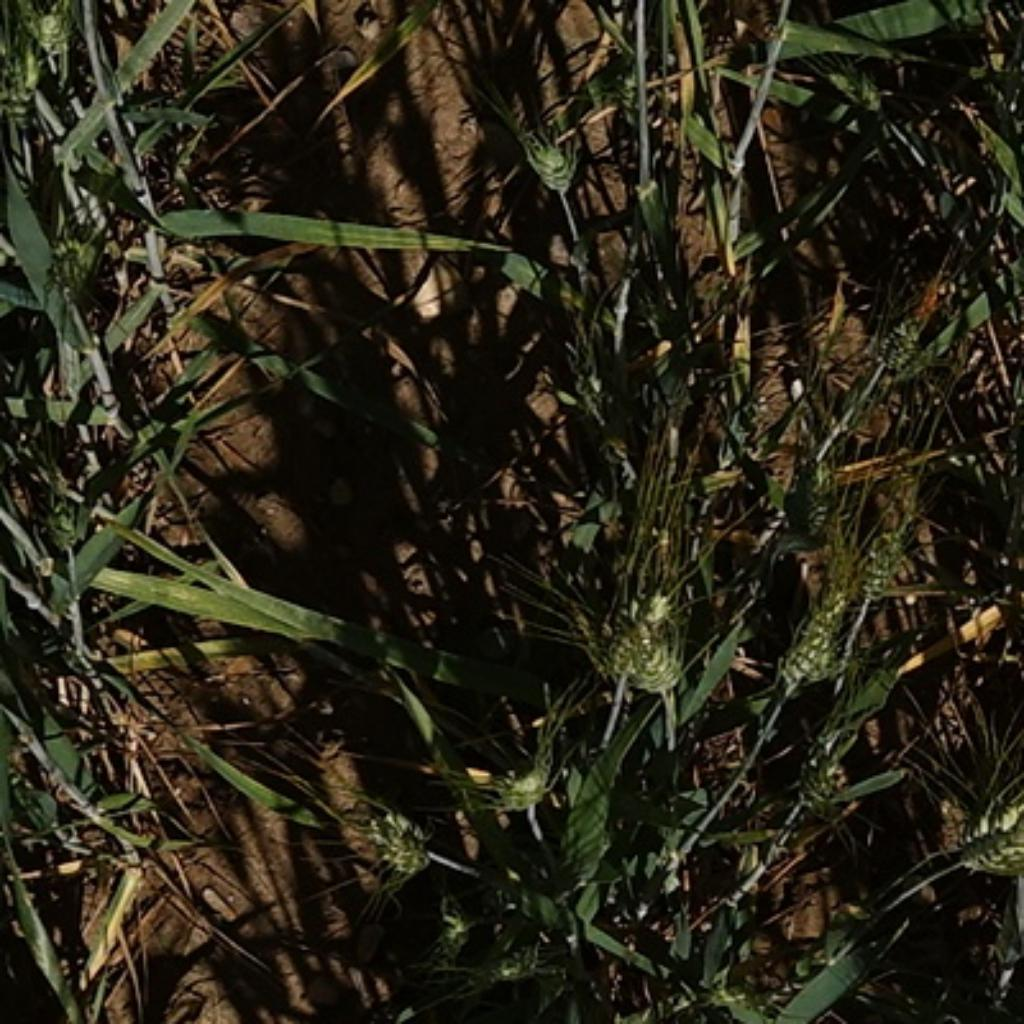0-0: (583, 573, 693, 693), (335, 775, 450, 880), (770, 568, 870, 686), (783, 448, 867, 555), (938, 790, 1024, 858), (855, 304, 939, 373), (471, 936, 563, 998), (486, 747, 558, 821), (849, 522, 911, 606), (953, 820, 1024, 892), (20, 2, 89, 71), (517, 117, 581, 189), (631, 631, 696, 698), (2, 48, 56, 128), (791, 755, 857, 820), (414, 911, 486, 970), (35, 478, 84, 563), (46, 228, 109, 292), (822, 68, 880, 109)
